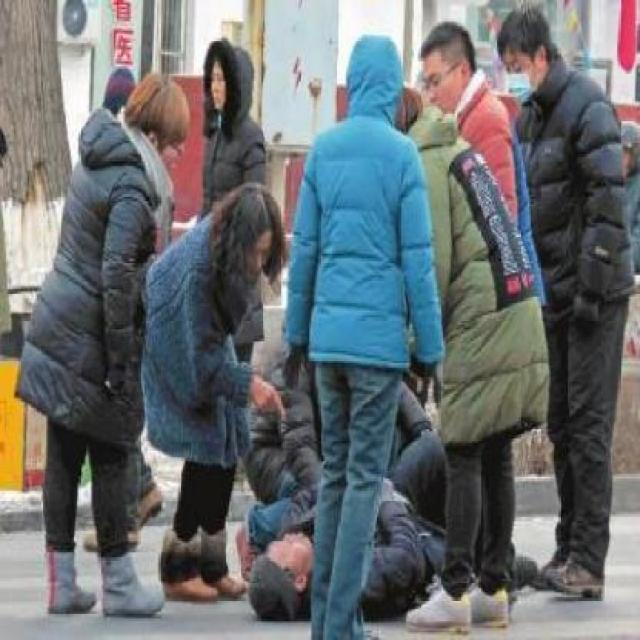fall: (223, 422, 482, 622)
